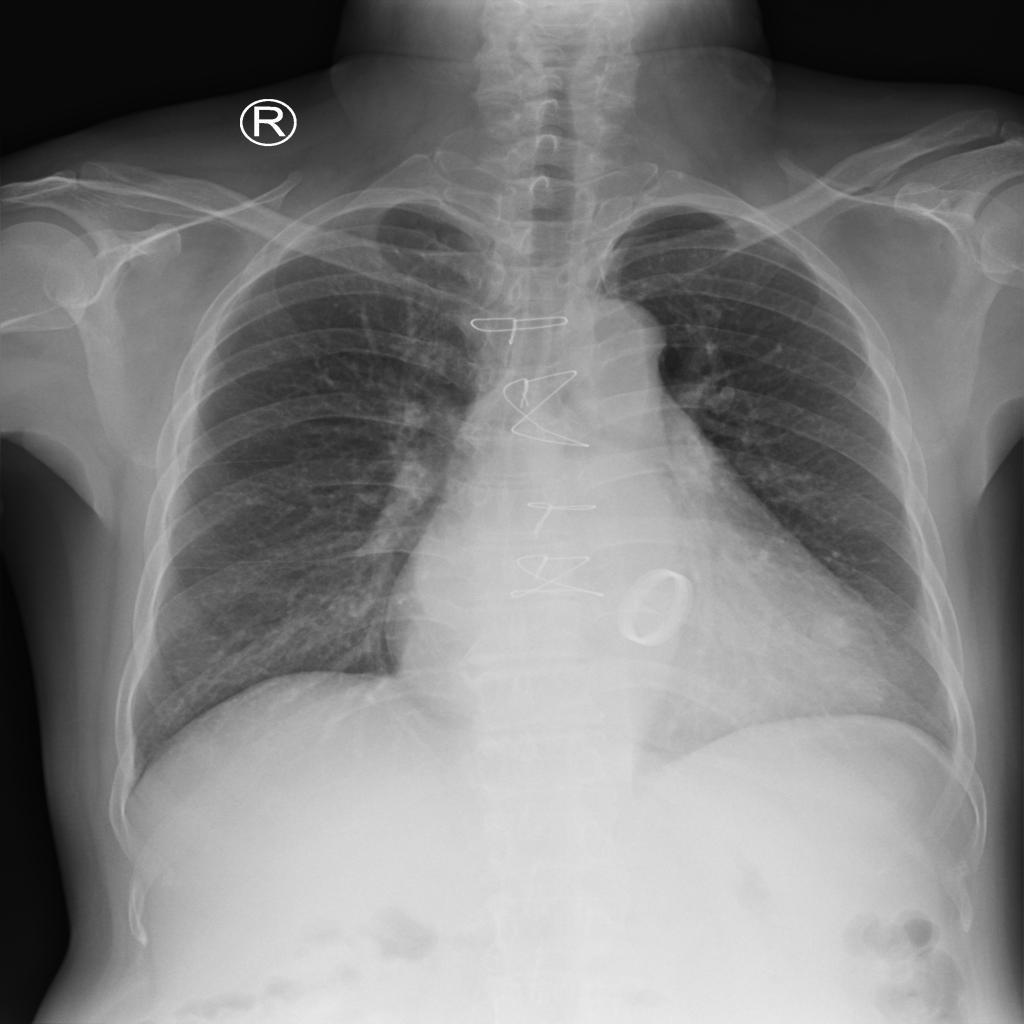Nodule: (781, 605, 898, 711)
